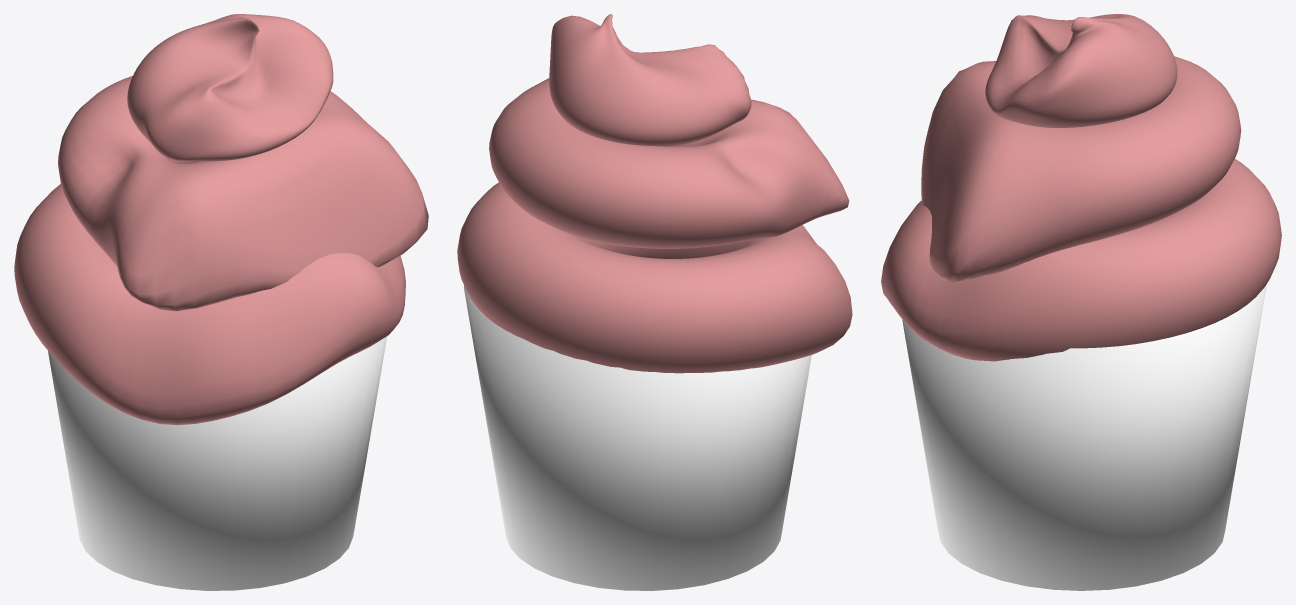
Rendered from strawberry_poor.glb.
The picture shows the model from 3 angles, left to right: view 1: azimuth 30°, elevation 25°; view 2: azimuth 150°, elevation 25°; view 3: azimuth 270°, elevation 25°; orthographic projection. The views are drawn at different scales.
Parts seen in each view (by area): view 1: 圓柱體, 環體.001, 環體, 球體; view 2: 圓柱體, 環體, 環體.001, 球體; view 3: 圓柱體, 環體.001, 環體, 球體.
Boxes of the visible parts, x1,y1,x2,y2 form: 圓柱體: [48, 336, 386, 590]; 環體.001: [58, 76, 428, 311]; 環體: [14, 184, 405, 425]; 球體: [127, 14, 333, 161]; 圓柱體: [464, 285, 811, 590]; 環體: [457, 182, 852, 373]; 環體.001: [489, 78, 849, 248]; 球體: [549, 14, 751, 146]; 圓柱體: [902, 284, 1266, 590]; 環體.001: [921, 56, 1241, 283]; 環體: [881, 159, 1281, 361]; 球體: [985, 14, 1177, 127].
Size of the model in its own units: 3.01 by 4.28 by 2.94.
Materials: 2 (1 with a texture image).
